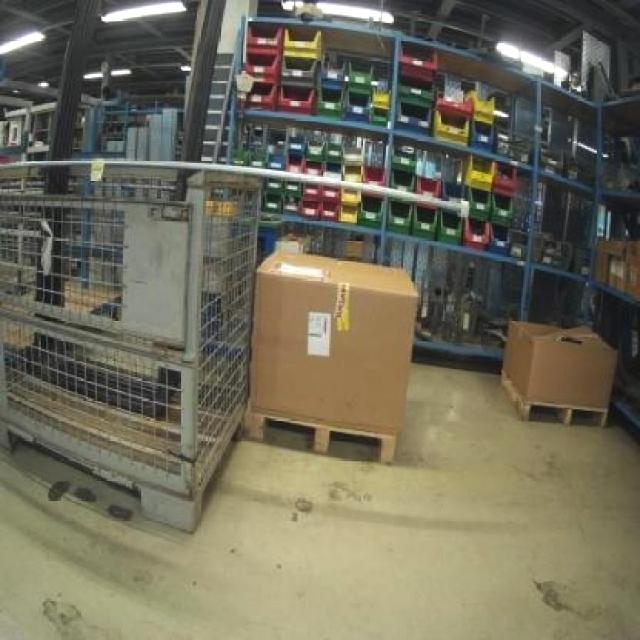pallets: (0, 160, 257, 528), (249, 252, 415, 458), (500, 318, 614, 423)
